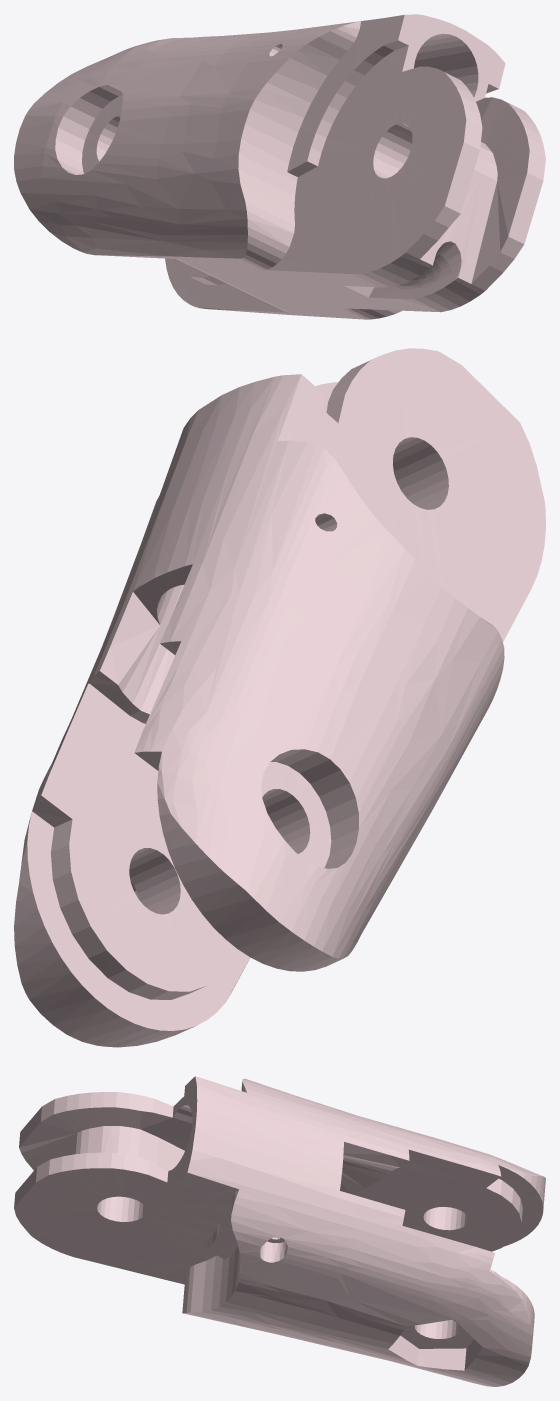
Rendered from i02_leftHand_pinkyMid_visual.obj.balanced.glb.
The picture shows the model from 3 angles, top to bottom: view 1: azimuth 30°, elevation 25°; view 2: azimuth 150°, elevation 25°; view 3: azimuth 270°, elevation 25°; orthographic projection. The views are drawn at different scales.
Bounding box in the file's own units: 0.2074 × 0.2597 × 0.3863.
